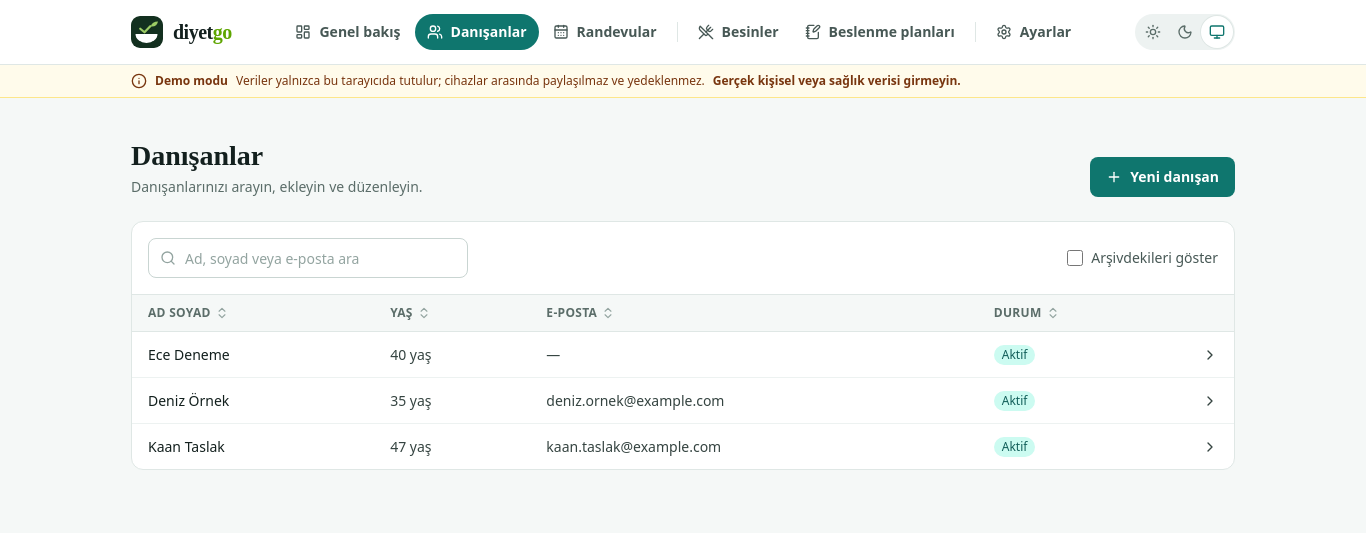
Scenario: Danışan listesi › aktif danışanları listeler; arşivdekileri isteğe bağlı gösterir
Expected: the table named "Danışan listesi" is shown, [132,295,1234,469]
Click the checkbox labelled "Arşivdekileri göster".
click(1075, 258)  # box [1067,250,1083,266]
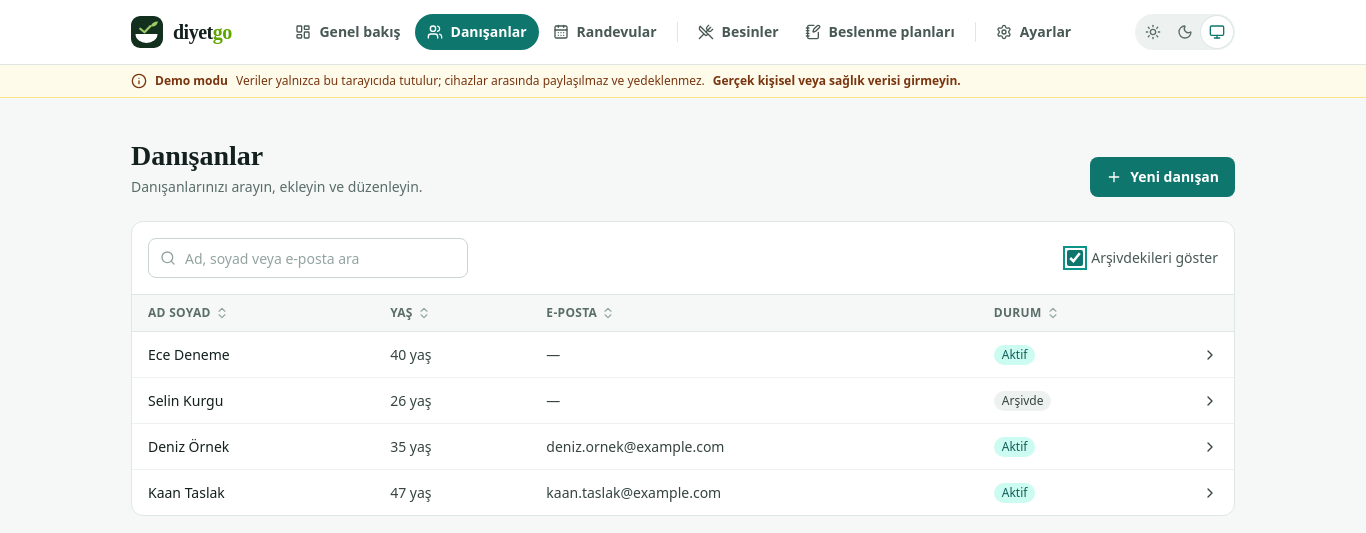
Expected: the link "Selin Kurgu" is shown, [148,390,223,410]
Expected: the text "Arşivde" is shown once, [994,391,1052,411]
